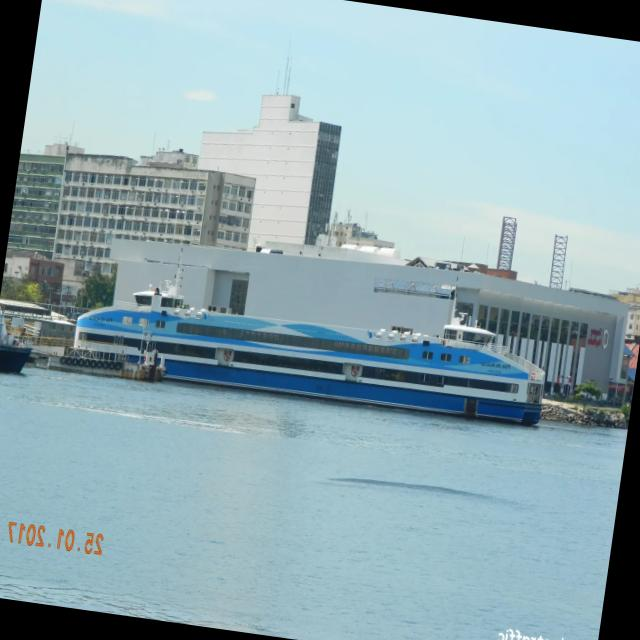Passenger: (75, 270, 545, 425)
